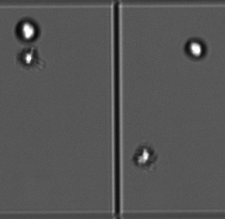Living Cell: (15, 18, 40, 42), (184, 38, 206, 60), (133, 145, 153, 166), (19, 47, 39, 67)
